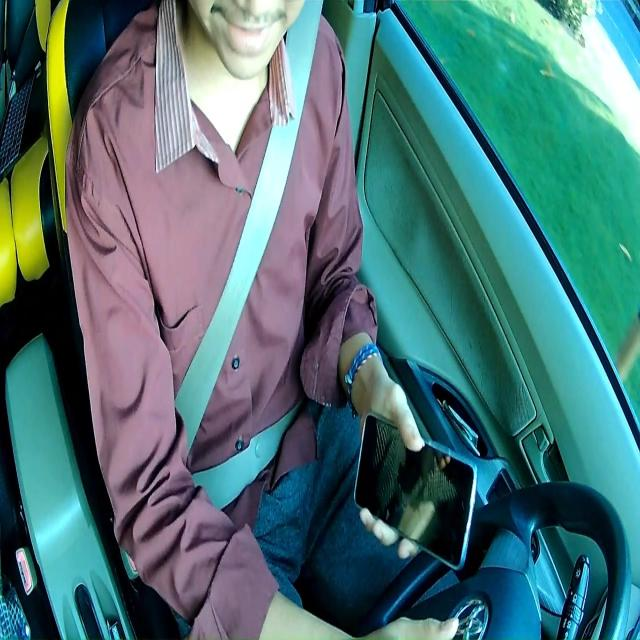phone: (351, 416, 477, 570)
